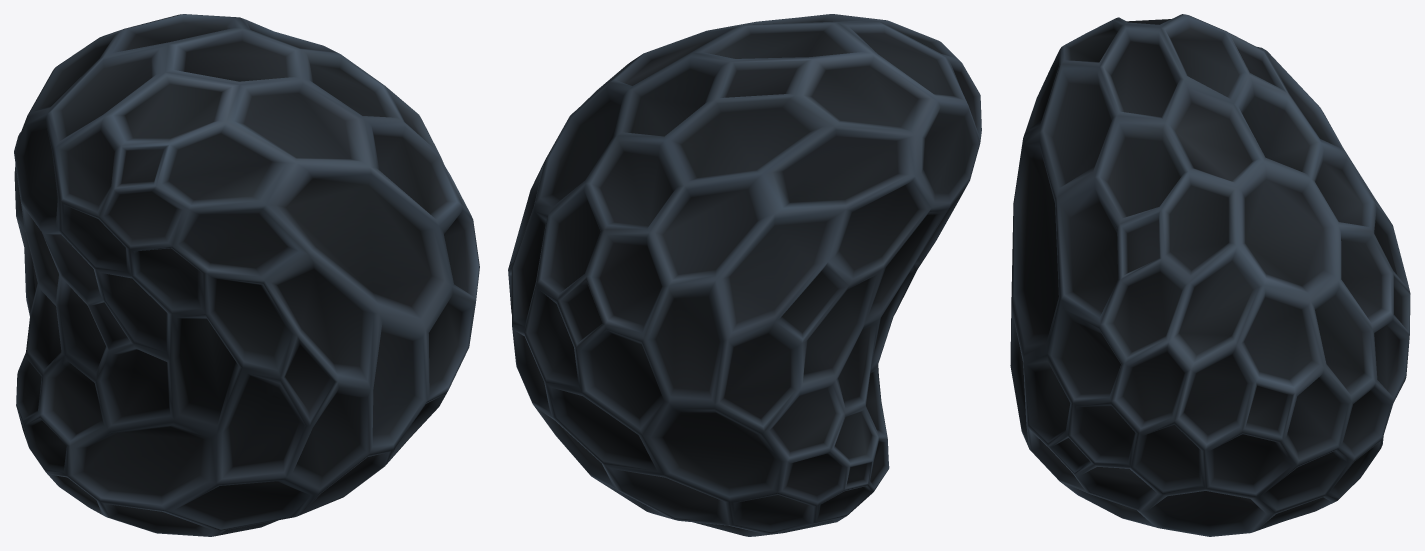
The model's file is trees-seeds-nuts-poppy-seed_v5.fbx.
3 renders of one model, left to right at view 1: azimuth 30°, elevation 25°; view 2: azimuth 150°, elevation 25°; view 3: azimuth 270°, elevation 25°, orthographic. The views are drawn at different scales.
Parts seen in each view (by area): view 1: Poppy Seed_v5; view 2: Poppy Seed_v5; view 3: Poppy Seed_v5.
Boxes of the visible parts, left/top/right/bottom form: Poppy Seed_v5: left=14, top=14, right=479, bottom=536; Poppy Seed_v5: left=508, top=14, right=981, bottom=536; Poppy Seed_v5: left=1010, top=14, right=1410, bottom=536.
Bounding box in the file's own units: 0.0868 × 0.1 × 0.0783.
